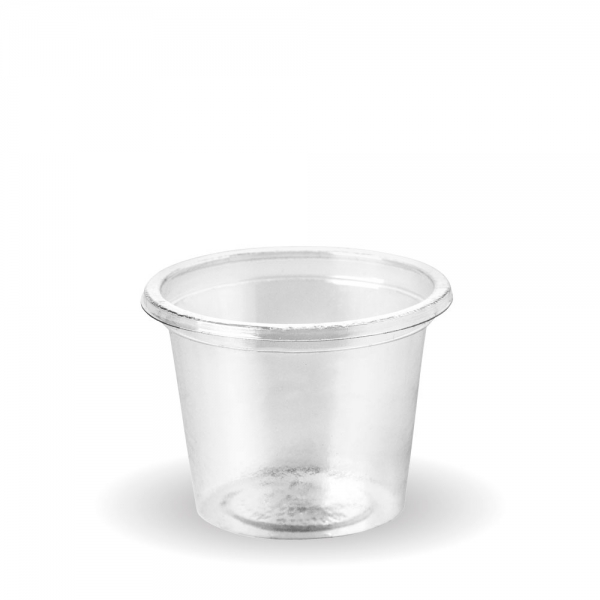plastic_glass: (132, 239, 472, 554)
